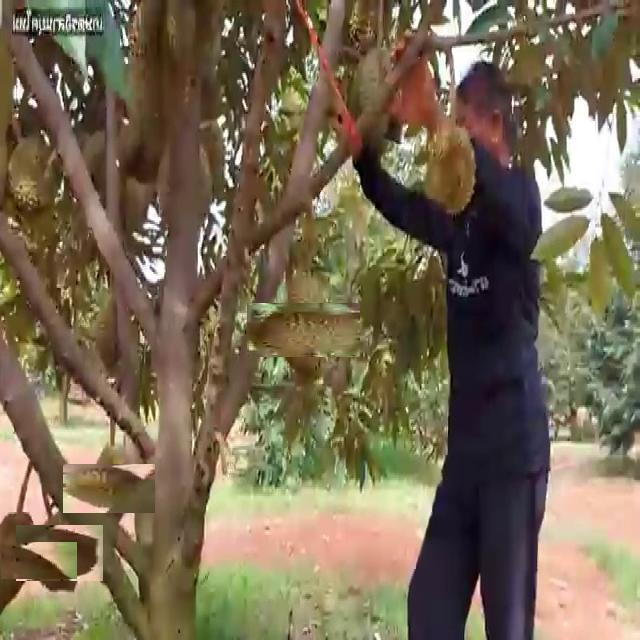durian: (341, 41, 405, 169), (262, 288, 345, 371), (421, 116, 478, 217), (24, 517, 96, 589), (74, 453, 145, 524), (0, 522, 58, 599)
